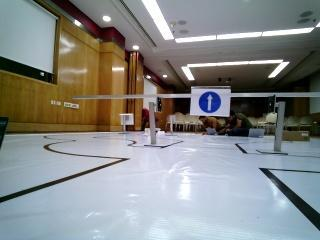straight: (189, 85, 233, 117)
